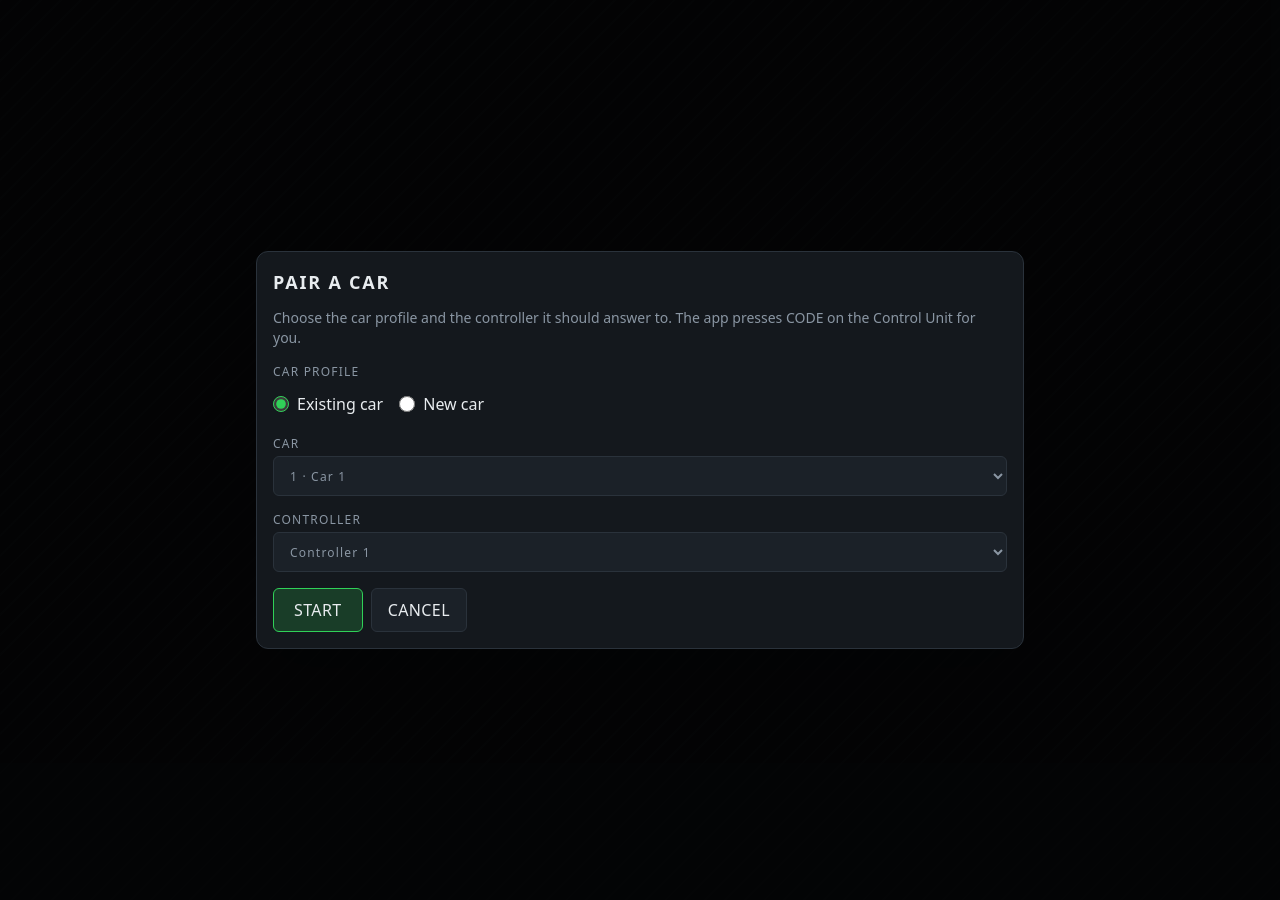
Scenario: PairingWizard › translates busy and not_connected errors on start
Click the button with test id "pair-start" at (318, 610), box [273,588,363,632]
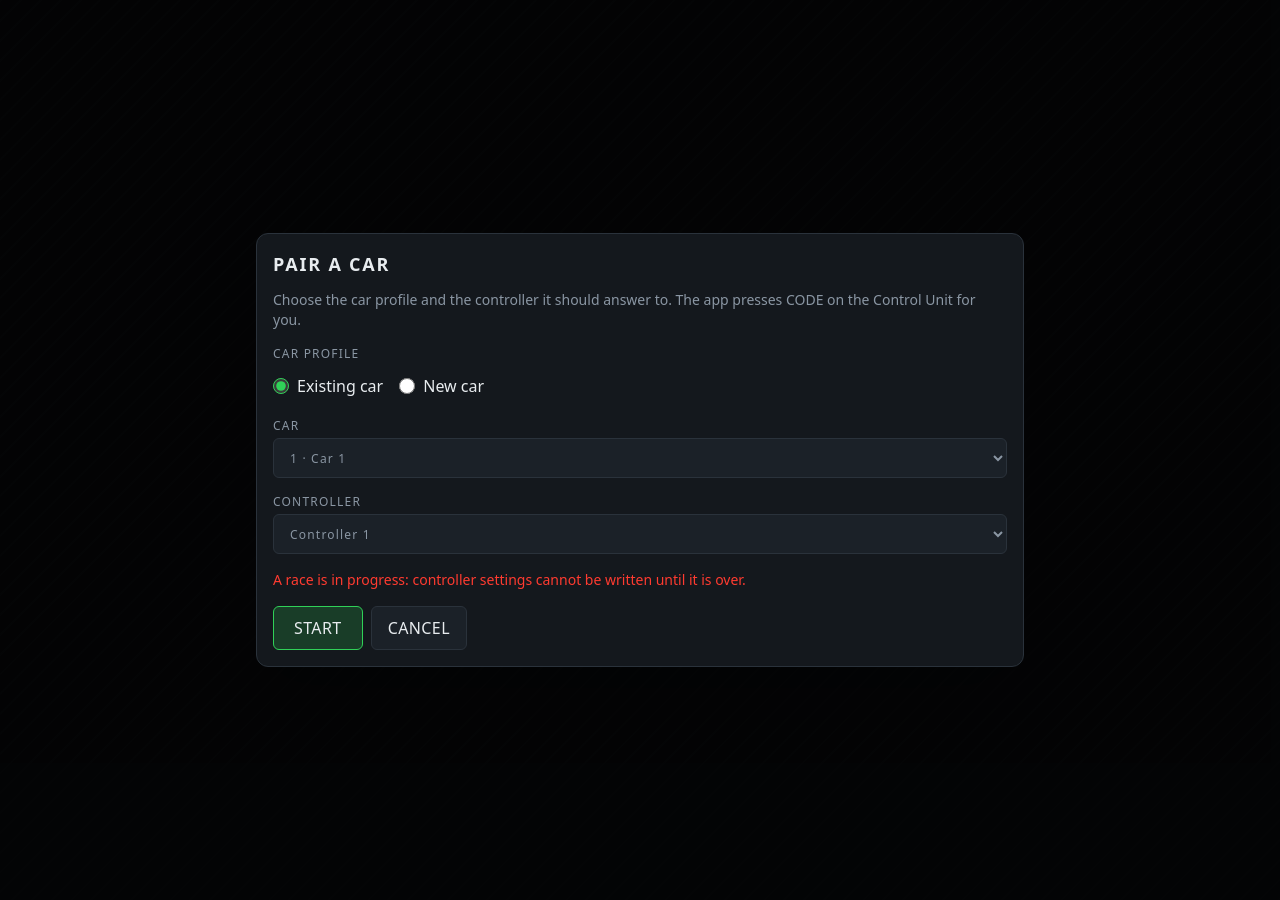
Expected: the form with test id "pair-setup" is shown, [273,290,1007,650]
Expected: the message with test id "pair-error" shows "A race is in progress", [273,570,746,589]
Click the button with test id "pair-start" at (318, 628), box [273,606,363,650]
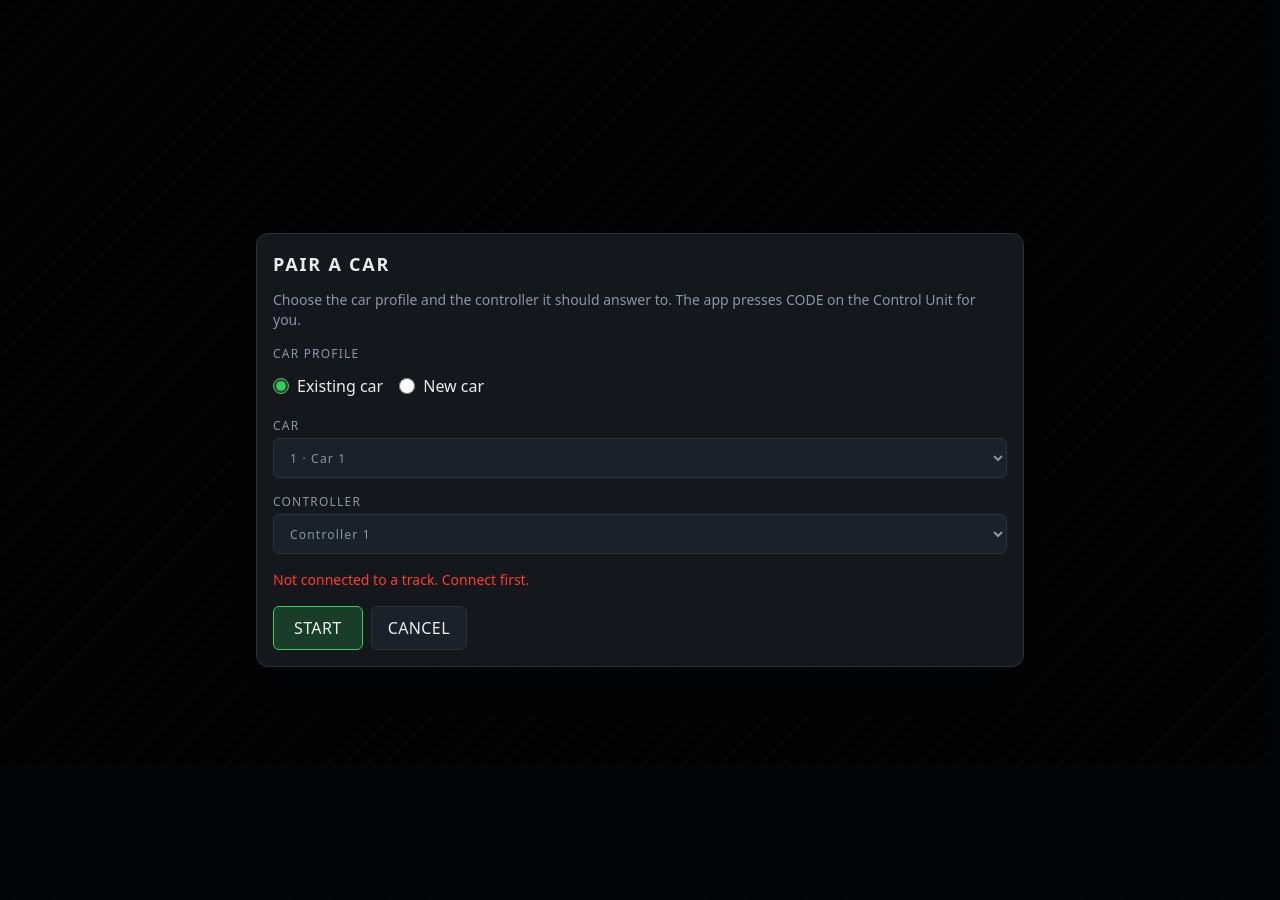
Expected: the message with test id "pair-error" shows "Not connected to a track", [273,570,529,589]
